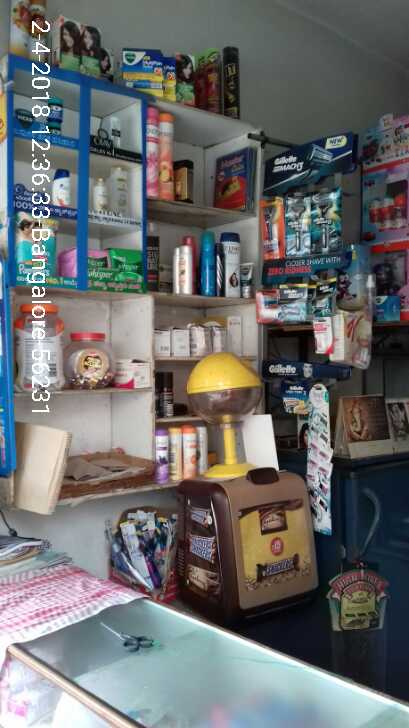vicks: (122, 44, 177, 100), (42, 91, 64, 131)
